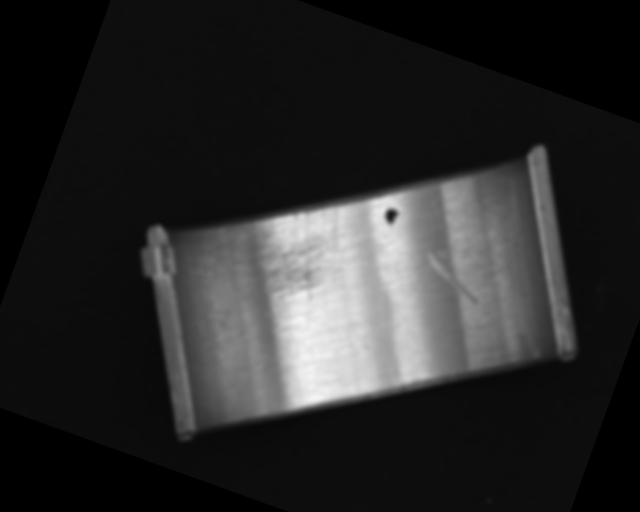blot: (381, 205, 400, 227)
nick: (416, 243, 491, 304), (403, 197, 453, 278)
scratch: (213, 172, 364, 316)
